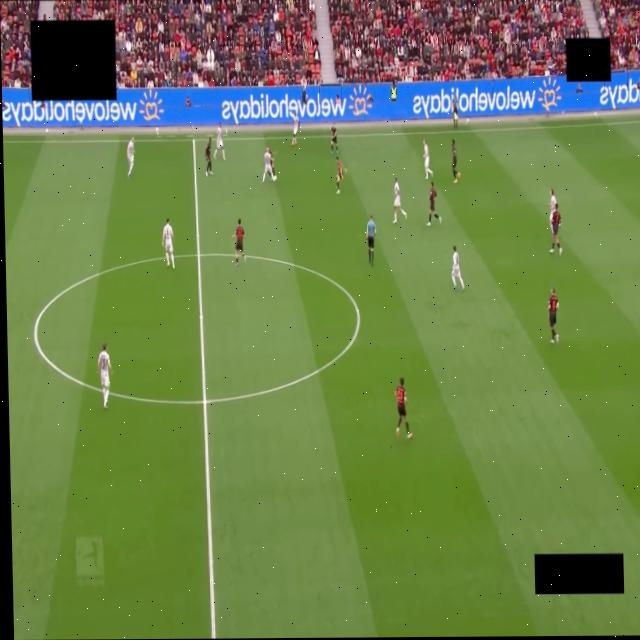ball: (272, 176, 276, 181)
player: (395, 378, 411, 439), (97, 343, 111, 408), (161, 219, 174, 270), (426, 181, 440, 227), (550, 204, 562, 255), (232, 219, 245, 266), (393, 178, 406, 223), (451, 246, 464, 291), (548, 288, 558, 344), (262, 147, 275, 182), (451, 141, 460, 184), (213, 124, 224, 159), (336, 158, 346, 194), (423, 141, 432, 179), (291, 113, 301, 146), (126, 137, 134, 176), (549, 188, 556, 230), (204, 137, 211, 176), (330, 125, 337, 155), (269, 150, 275, 180)
referee: (366, 214, 375, 266), (451, 97, 458, 129)
